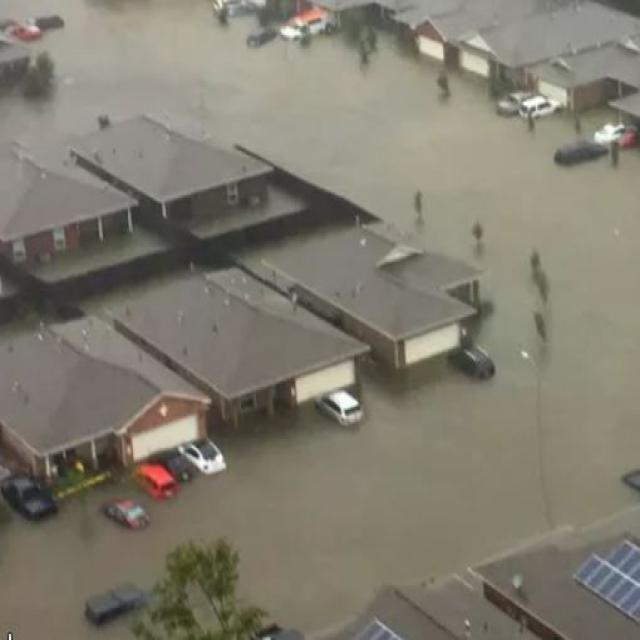flooded_areas: (2, 5, 638, 592)
